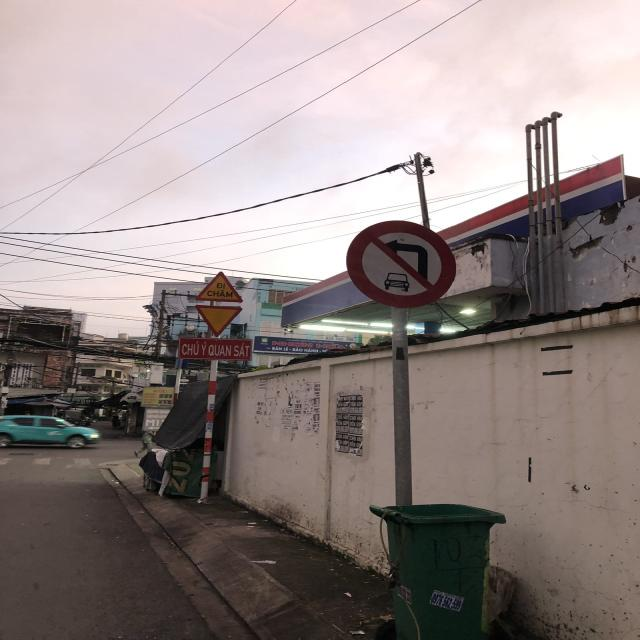Bien bao cam xe o to re trai: (339, 215, 463, 312)
Bien bao di cham: (191, 272, 246, 304)
Bien bao giao nhau voi duong uu tien: (192, 302, 249, 338)
